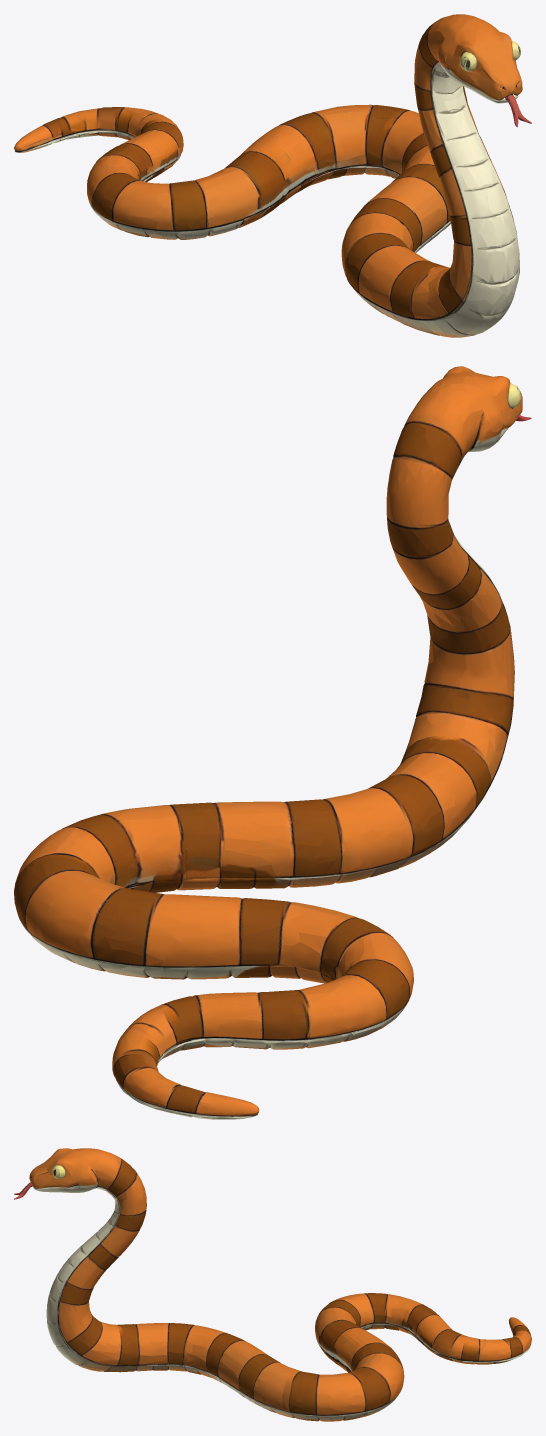
The model's file is snake-b.glb.
The picture shows the model from 3 angles, top to bottom: view 1: azimuth 30°, elevation 25°; view 2: azimuth 150°, elevation 25°; view 3: azimuth 270°, elevation 25°; orthographic projection. The views are drawn at different scales.
Bounding box in the file's own units: 0.9521 × 0.9137 × 1.9.
1 material, 1 textured.
